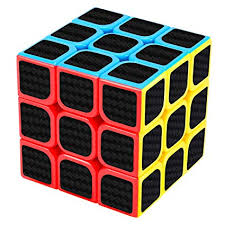rubik_cube: (12, 3, 216, 221)
